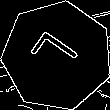L_SE: (27, 29, 87, 83)
